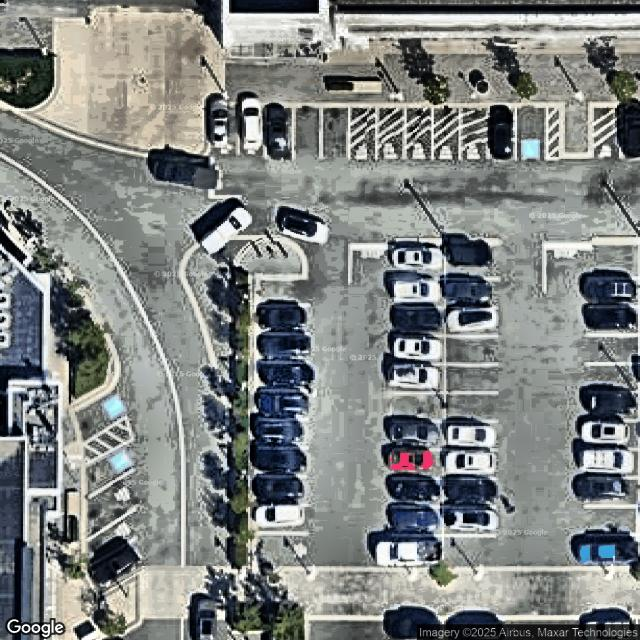car: (87, 540, 144, 591), (570, 535, 635, 567), (373, 537, 443, 565), (584, 390, 640, 418), (577, 447, 633, 475), (443, 306, 498, 333), (392, 244, 444, 272), (254, 445, 306, 473), (584, 304, 636, 332), (381, 446, 433, 474), (444, 449, 496, 477), (390, 476, 442, 504), (442, 479, 494, 507), (389, 335, 441, 363), (388, 364, 440, 392), (388, 418, 440, 446), (260, 328, 312, 356), (256, 389, 308, 417), (256, 299, 308, 327), (489, 104, 515, 159), (263, 103, 289, 158), (445, 238, 491, 269), (388, 507, 440, 534), (446, 509, 498, 536), (583, 448, 635, 475), (578, 420, 630, 447), (586, 278, 638, 305), (444, 422, 496, 449), (443, 279, 495, 306), (391, 305, 443, 332), (254, 476, 306, 503), (254, 504, 306, 531), (260, 330, 312, 357), (260, 359, 312, 386), (254, 418, 306, 445), (574, 476, 630, 501), (391, 276, 441, 304), (240, 94, 264, 152), (208, 97, 232, 153), (618, 101, 640, 155)
lot_boundary: (73, 92, 639, 639)
objects: (233, 565, 640, 621), (232, 276, 252, 565), (83, 415, 133, 465), (548, 104, 591, 159)
stall: (85, 469, 136, 541), (87, 467, 137, 539), (87, 539, 147, 598), (79, 382, 129, 446), (87, 510, 137, 568), (90, 438, 135, 496), (445, 242, 496, 278), (258, 533, 309, 567), (394, 241, 445, 274), (590, 245, 640, 277), (461, 106, 490, 159), (585, 535, 637, 564), (444, 421, 496, 450), (446, 393, 498, 422), (445, 364, 497, 393), (443, 536, 495, 565), (444, 507, 496, 536), (444, 277, 496, 306), (446, 307, 498, 336), (390, 448, 442, 477), (253, 476, 305, 505), (257, 506, 309, 535), (393, 276, 445, 305), (392, 335, 444, 364), (392, 364, 444, 393), (256, 361, 308, 390), (255, 388, 307, 417), (349, 106, 377, 159), (446, 336, 497, 365), (588, 421, 639, 450), (587, 364, 638, 393), (588, 278, 639, 307), (444, 450, 495, 479), (254, 446, 305, 475), (390, 477, 441, 506), (390, 507, 441, 536), (258, 277, 309, 306), (256, 332, 307, 361), (585, 478, 637, 506), (587, 308, 639, 336), (255, 420, 307, 448), (394, 308, 446, 336), (392, 392, 444, 420), (391, 420, 443, 448), (586, 508, 637, 536), (587, 450, 638, 478), (587, 392, 638, 420), (444, 478, 495, 506), (390, 536, 441, 564), (257, 306, 308, 334), (379, 106, 405, 159), (433, 106, 459, 159), (294, 104, 320, 157), (321, 105, 347, 158), (239, 104, 265, 157), (491, 107, 517, 159), (519, 107, 545, 159), (592, 105, 618, 157), (406, 107, 432, 159), (212, 101, 238, 153), (266, 104, 292, 156), (586, 336, 638, 362), (619, 106, 640, 158)
